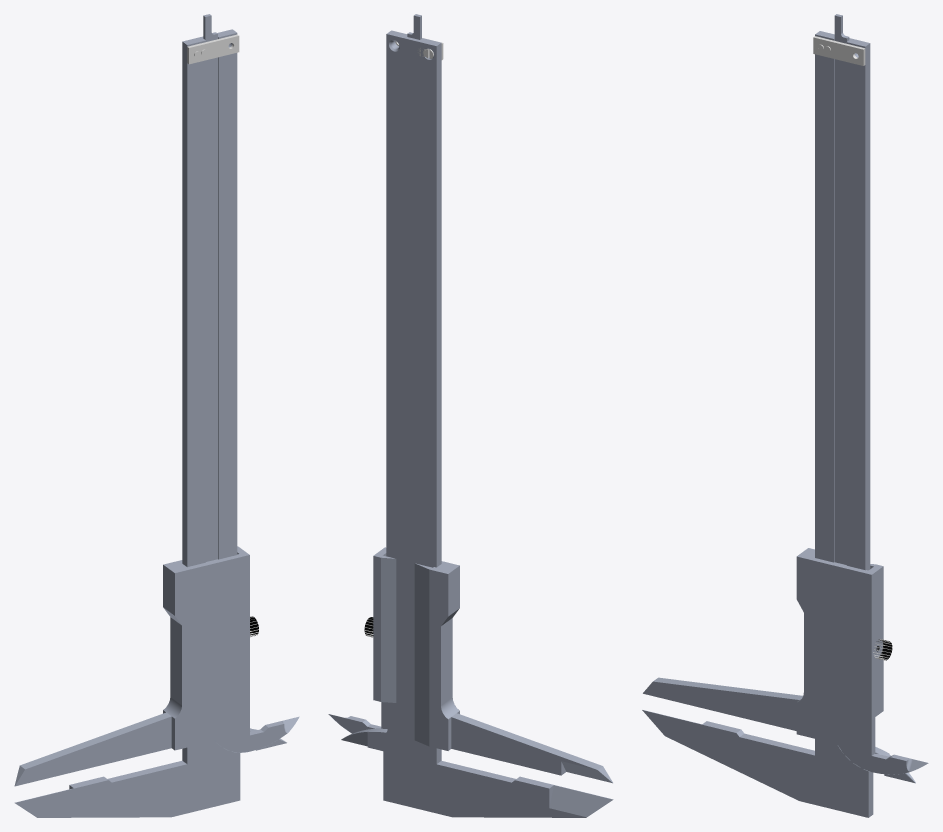
The model's file is youbiaokachi.FBX.
The picture shows the model from 3 angles, left to right: view 1: azimuth 30°, elevation 25°; view 2: azimuth 150°, elevation 25°; view 3: azimuth 330°, elevation 25°; orthographic projection.
Visible parts, largest first — view 1: TRM_SRF (×8); view 2: TRM_SRF (×11); view 3: TRM_SRF (×8).
Boxes of the visible parts, x1=… form: TRM_SRF (×8): x1=15, y1=15, x2=287, y2=817; TRM_SRF (×11): x1=328, y1=34, x2=612, y2=817; TRM_SRF (×8): x1=642, y1=15, x2=914, y2=817.
Bounding box in the file's own units: 17.91 × 47.44 × 1.28.
